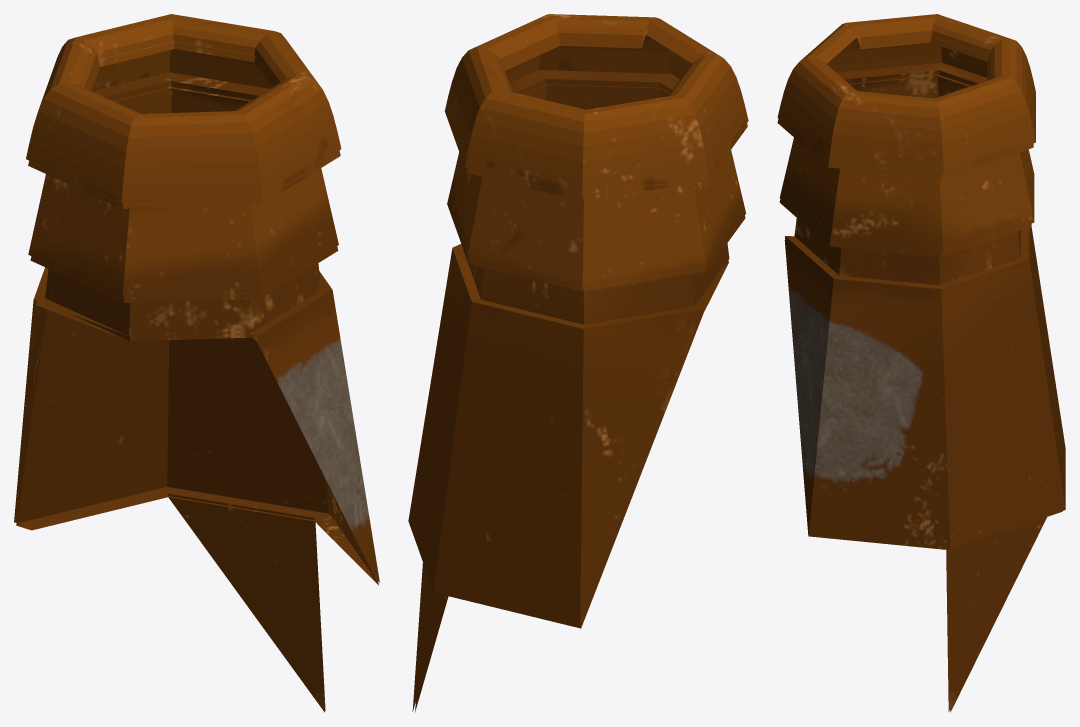
File: Bottle_08.FBX
The picture shows the model from 3 angles, left to right: view 1: azimuth 30°, elevation 25°; view 2: azimuth 150°, elevation 25°; view 3: azimuth 270°, elevation 25°; orthographic projection. The views are drawn at different scales.
Visible parts, largest first — view 1: Object016; view 2: Object016; view 3: Object016.
Part boxes in pixels (x1,y1,x2,y2): Object016: (14,14,379,712); Object016: (408,14,748,712); Object016: (777,14,1065,712).
Size of the model in its own units: 53.36 by 116 by 51.58.
1 material, 1 textured.
